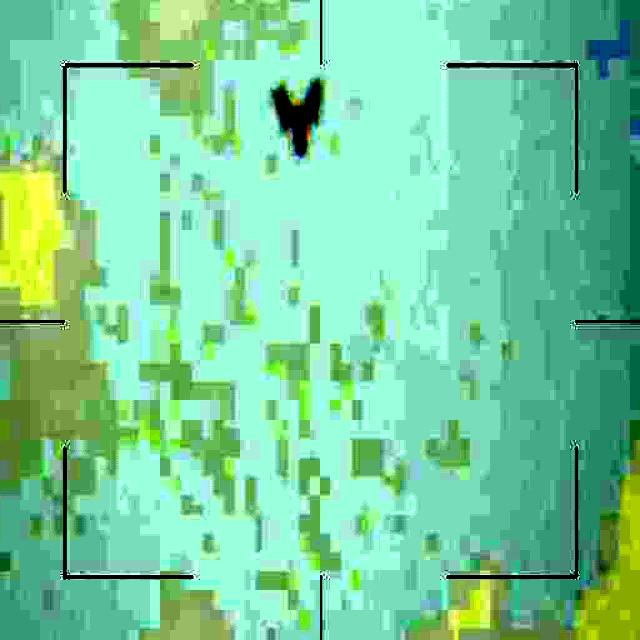bird: (279, 76, 324, 161)
